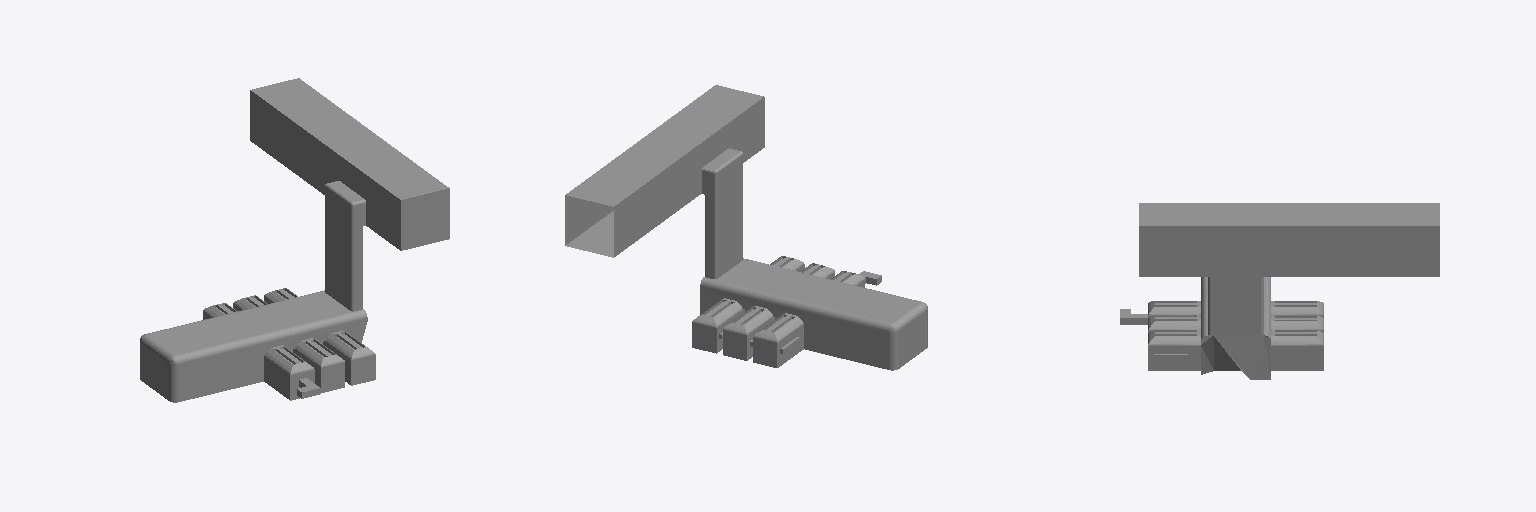
File: 1_StartingArea.obj
3 renders of one model, left to right at view 1: azimuth 30°, elevation 25°; view 2: azimuth 150°, elevation 25°; view 3: azimuth 270°, elevation 25°, orthographic.
Visible parts, largest first — view 1: StartingArea_Plane.001; view 2: StartingArea_Plane.001; view 3: StartingArea_Plane.001.
Boxes of the visible parts, <box> form: StartingArea_Plane.001: <box>140,78,449,402</box>; StartingArea_Plane.001: <box>565,85,927,370</box>; StartingArea_Plane.001: <box>1120,203,1439,379</box>.
Size of the model in its own units: 40.35 by 28.1 by 45.51.